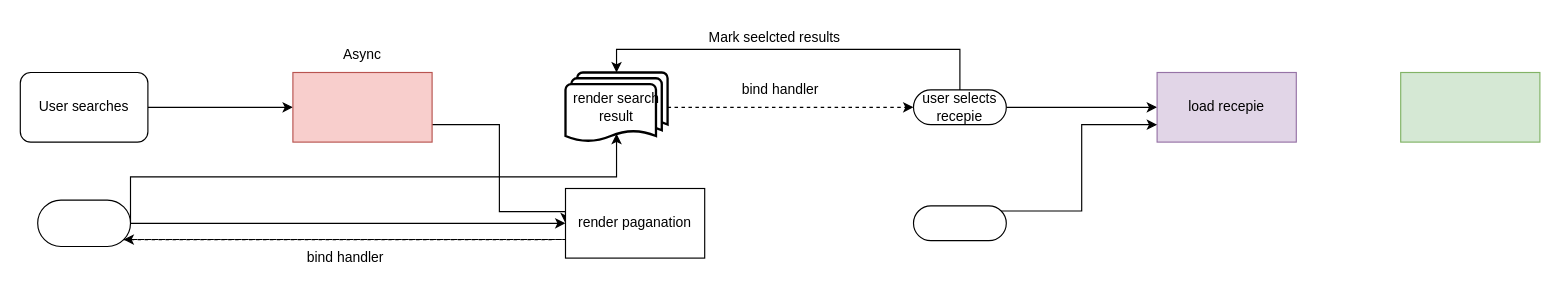
Image size: 1560x295. Some labels were removed from this diagram. Here are the shapes that lost their labels. From the top down, the box of each, then its label:
(292, 71, 432, 142): load search results
(37, 199, 130, 246): User clicks pagnation
(912, 205, 1006, 241): Page laods with recepie id
